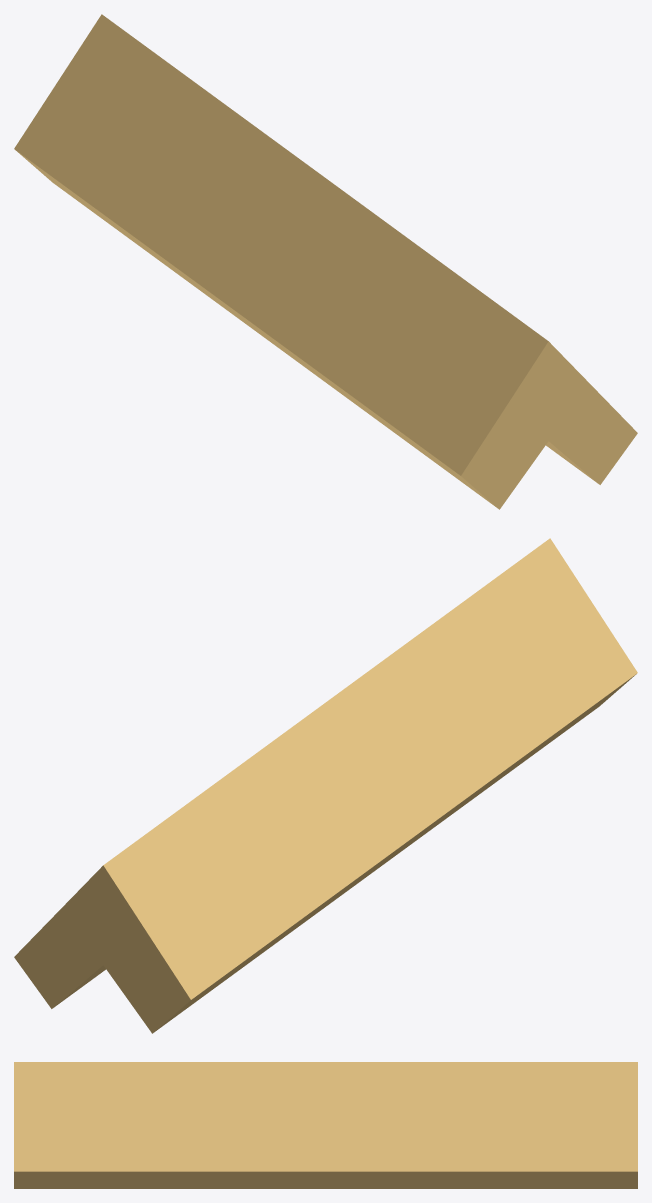
File: BuildingRoofTop1.5m1.fbx
3 renders of one model, top to bottom at view 1: azimuth 30°, elevation 25°; view 2: azimuth 150°, elevation 25°; view 3: azimuth 270°, elevation 25°, orthographic. The views are drawn at different scales.
Parts seen in each view (by area): view 1: building_roof_top_1.5m_1; view 2: building_roof_top_1.5m_1; view 3: building_roof_top_1.5m_1.
Boxes of the visible parts, x1,y1,x2,y2 form: building_roof_top_1.5m_1: [14, 14, 637, 509]; building_roof_top_1.5m_1: [14, 538, 637, 1033]; building_roof_top_1.5m_1: [14, 1062, 637, 1188].
Bounding box in the file's own units: 34.31 × 29 × 150.
